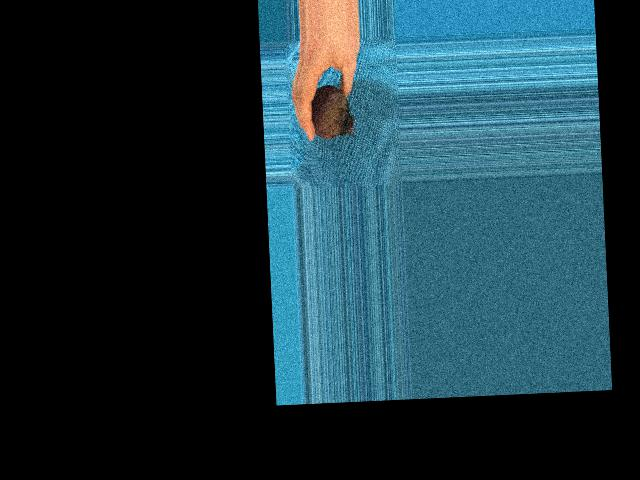beet: (310, 84, 355, 139)
